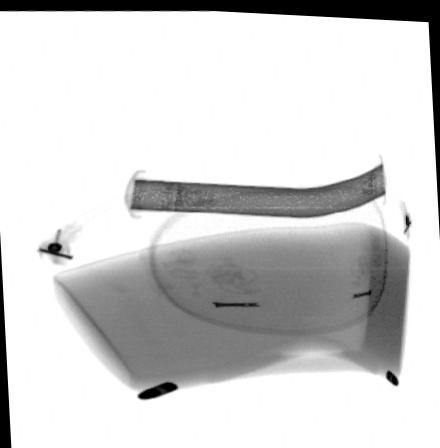Bullet: (135, 379, 180, 400)
